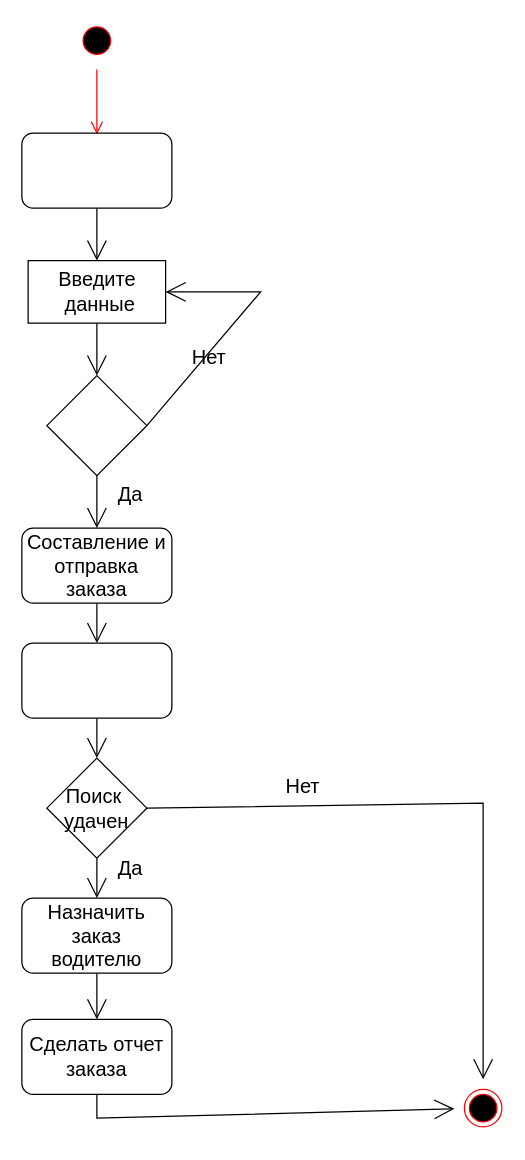
Some shapes in this 525 by 1160 pixel diagram are drawn without their labels. Here are the shapes that lost their labels. From the top down, the centre of each, then its label:
point (96, 170): Вход
point (96, 425): Данные верны?
point (96, 680): Поиск в базе водителей
